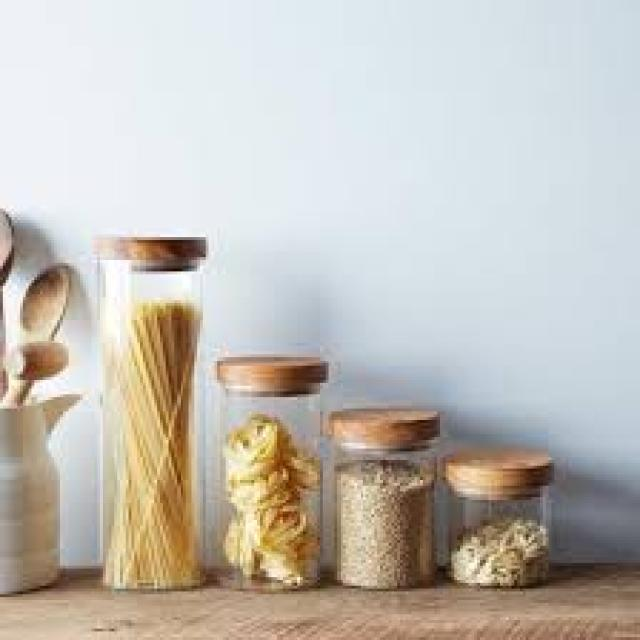glass: (94, 257, 206, 586), (214, 389, 317, 586), (329, 443, 432, 586), (443, 480, 548, 583)
